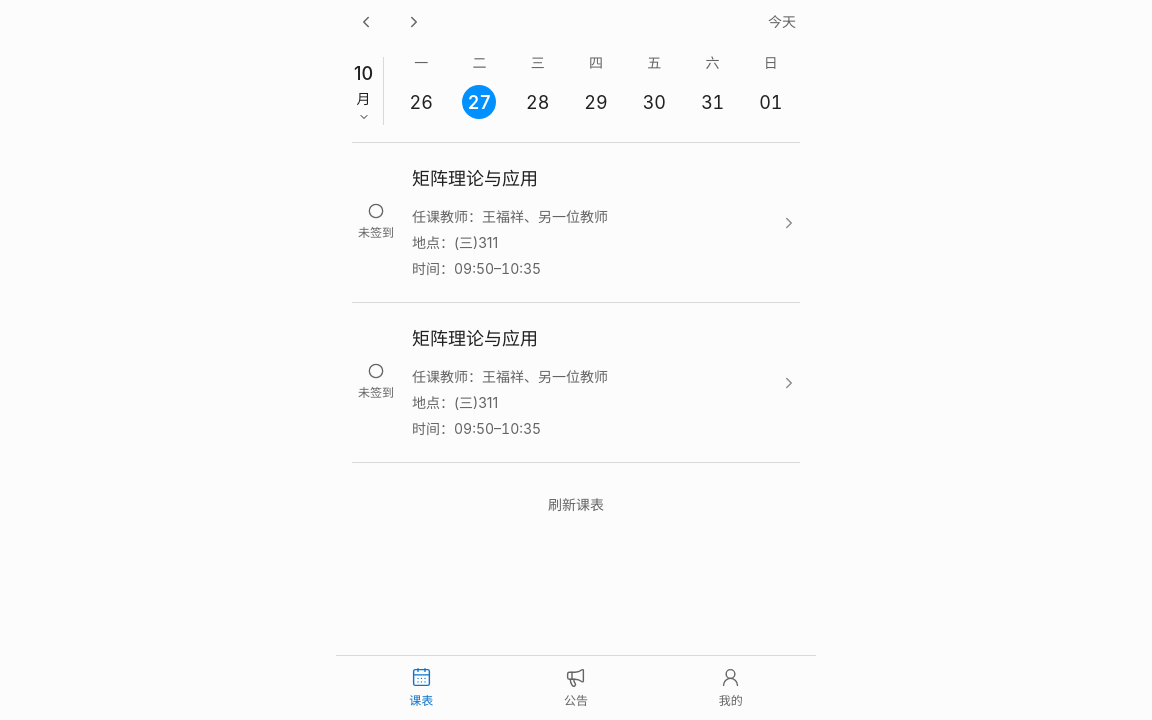
Scenario: mobile routes and course interactions › refreshes the schedule when a pending sign-in finishes after the sheet closes
The image size is (1152, 720).
Click the 1st button "未签到 矩阵理论与应用 任课教师：王福祥、另一位教师 地点：(三)311 时间：09:50–10:35".
click(576, 223)  # box [352, 143, 800, 302]
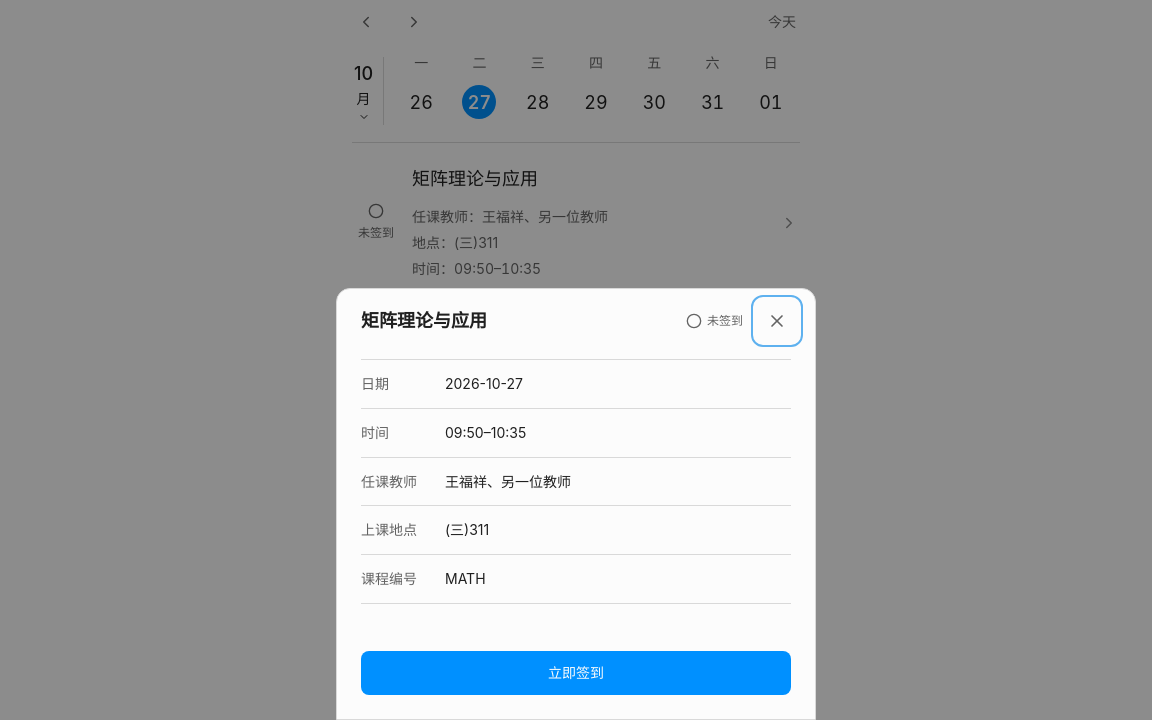
Check: the button "立即签到" is enabled
Click the button "立即签到".
click(576, 673)  # box [361, 651, 791, 695]
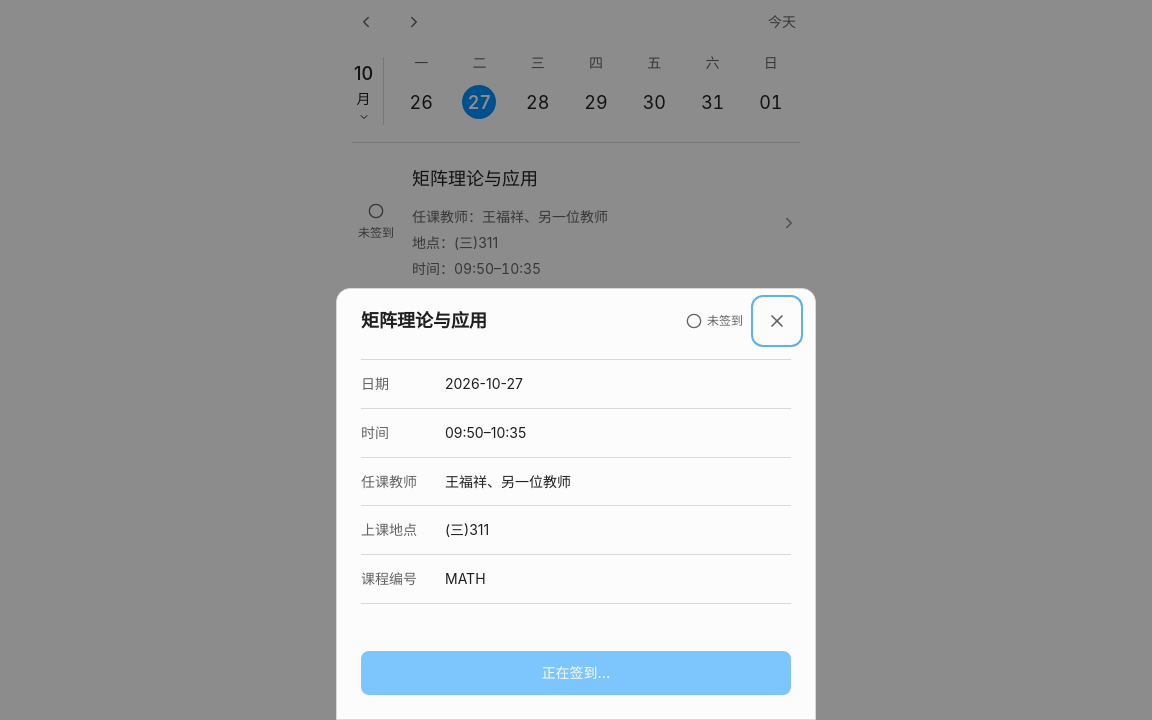
Click the button named "关闭课程详情".
click(777, 321)  # box [755, 299, 799, 343]
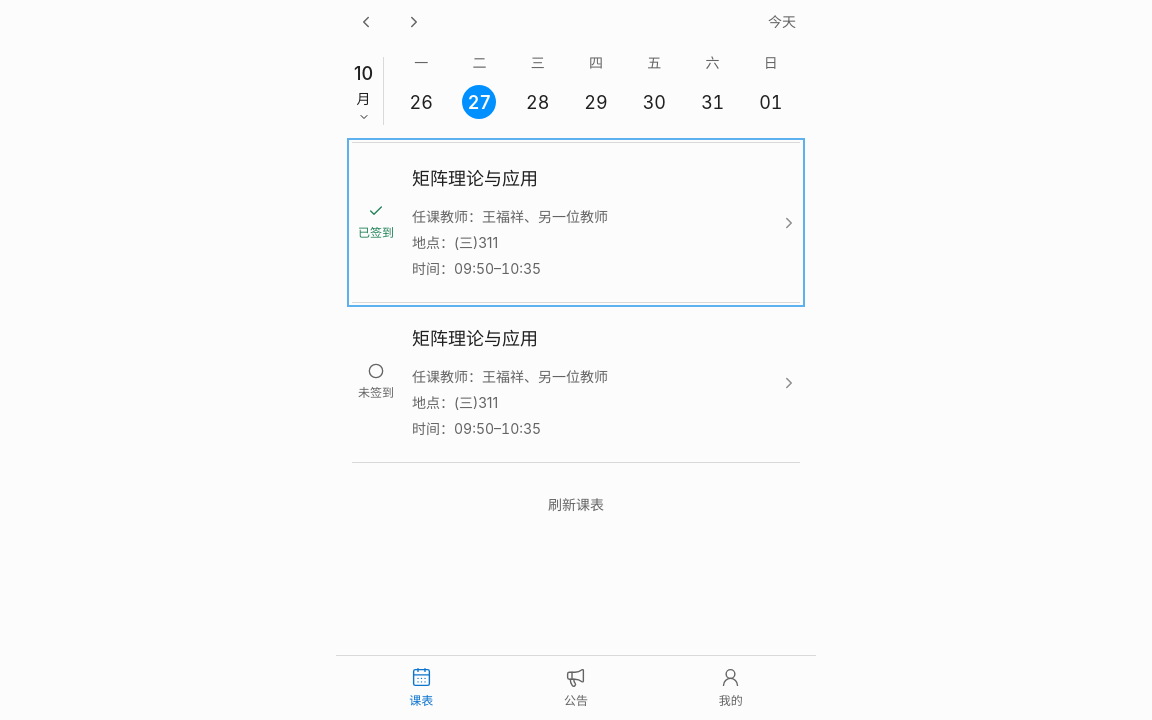
Check: the dialog is gone
Check: the element with class "course-status" reads "已签到", box [358, 225, 394, 240]
